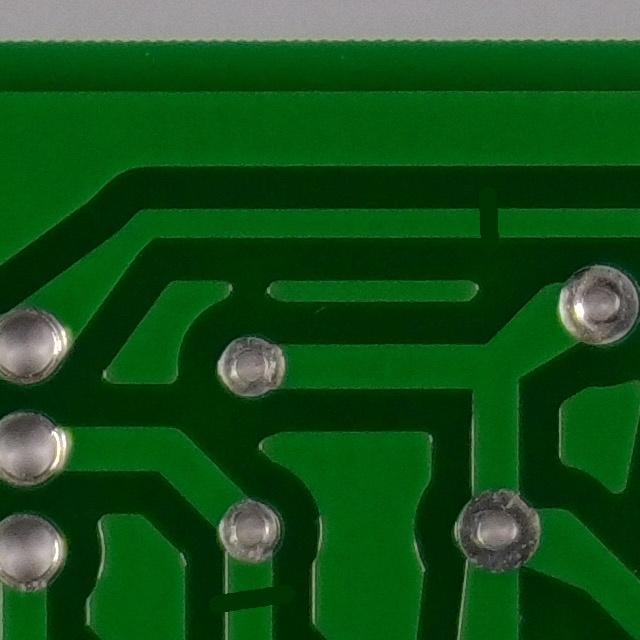open_circuit: (211, 573, 292, 629), (457, 187, 511, 253)
